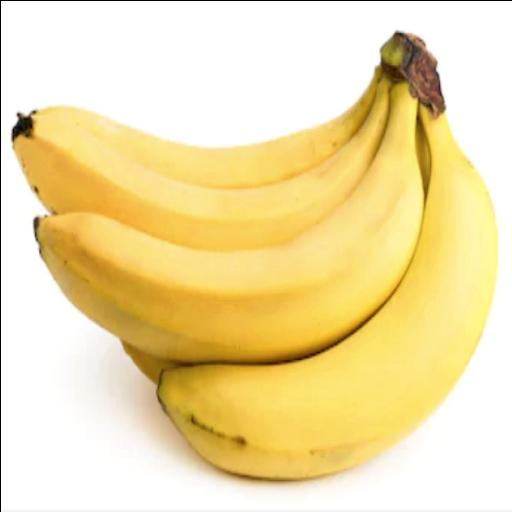banana: (157, 107, 496, 479), (35, 83, 422, 362), (12, 81, 387, 251), (39, 67, 380, 188), (121, 343, 176, 384), (415, 119, 429, 196)
